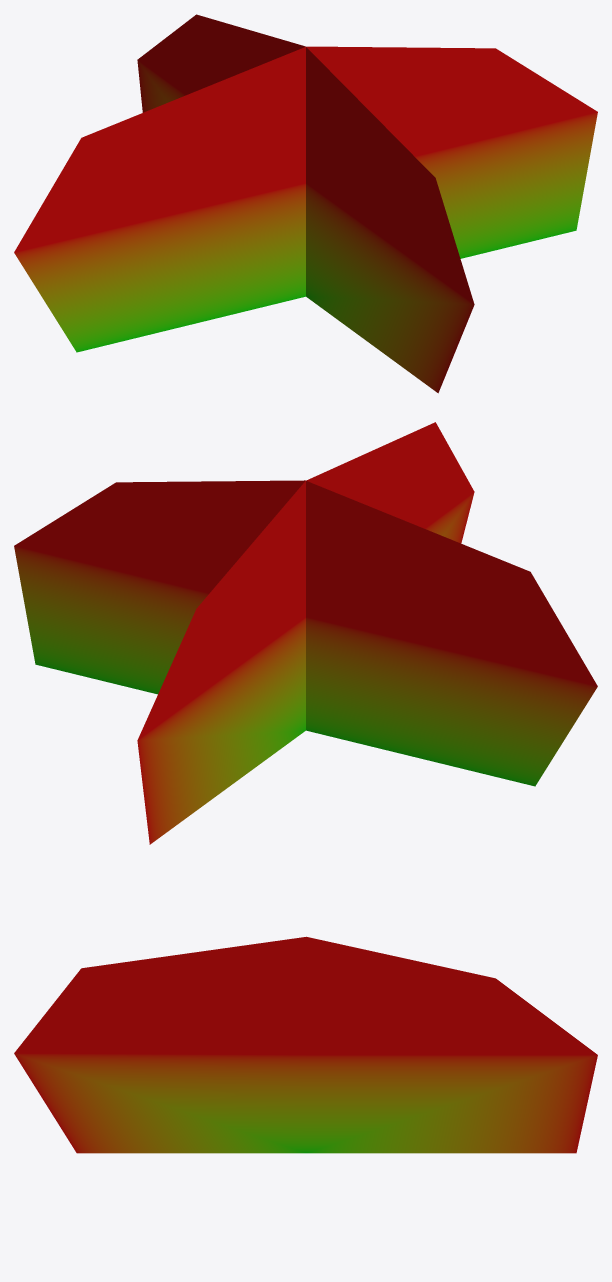
The model's file is Kikuyu Grass_LOD6_Var7_wiljearqx.fbx.
3 views of the same model, one above another, from view 1: azimuth 30°, elevation 25°; view 2: azimuth 150°, elevation 25°; view 3: azimuth 270°, elevation 25° (orthographic). The views are drawn at different scales.
Visible parts, largest first — view 1: _hodh_Var7_LOD6; view 2: _hodh_Var7_LOD6; view 3: _hodh_Var7_LOD6.
Boxes of the visible parts, left/top/right/bottom form: _hodh_Var7_LOD6: left=14, top=14, right=597, bottom=393; _hodh_Var7_LOD6: left=14, top=422, right=597, bottom=844; _hodh_Var7_LOD6: left=14, top=936, right=597, bottom=1153.
Bounding box in the file's own units: 93.03 × 38.06 × 93.03.
